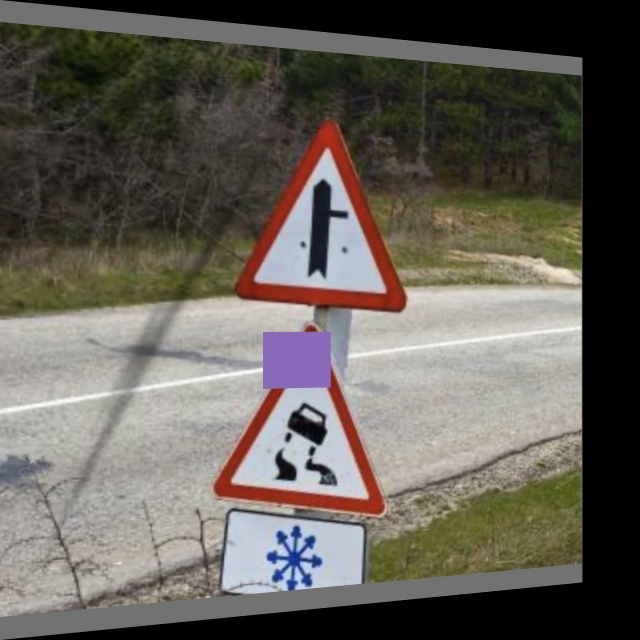Slippery_Road: (216, 322, 397, 512)
